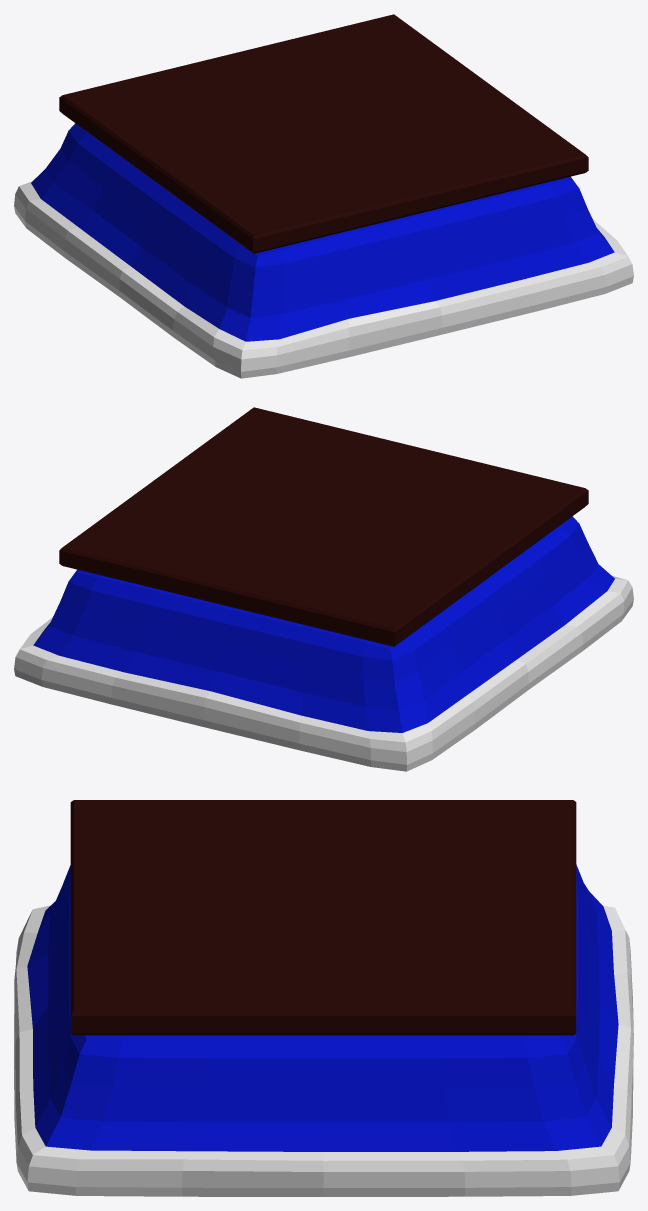
File: Kotatsu.fbx
3 renders of one model, top to bottom at view 1: azimuth 30°, elevation 25°; view 2: azimuth 150°, elevation 25°; view 3: azimuth 270°, elevation 25°, orthographic. The views are drawn at different scales.
Parts seen in each view (by area): view 1: Kotatsu; view 2: Kotatsu; view 3: Kotatsu.
Part boxes in pixels (box(x1,y1,x2,y2)): Kotatsu: box(14, 14, 633, 378); Kotatsu: box(14, 407, 633, 771); Kotatsu: box(14, 800, 633, 1196).
Size of the model in its own units: 464 by 132 by 462.
